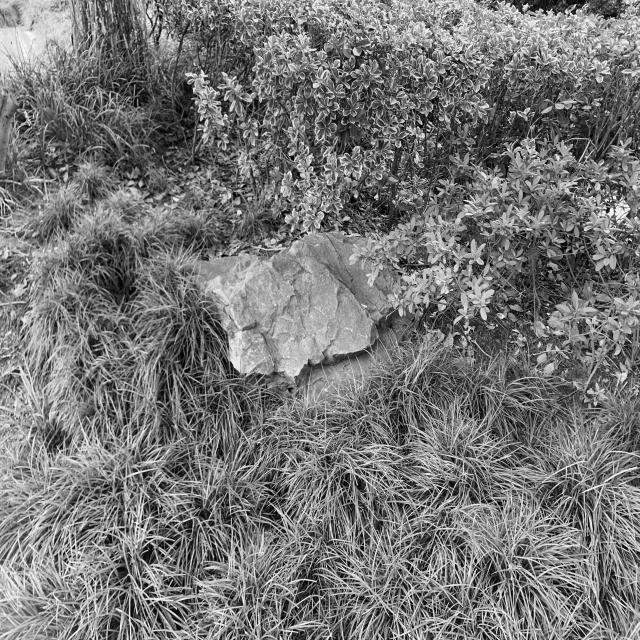Stone: (198, 232, 392, 390)
